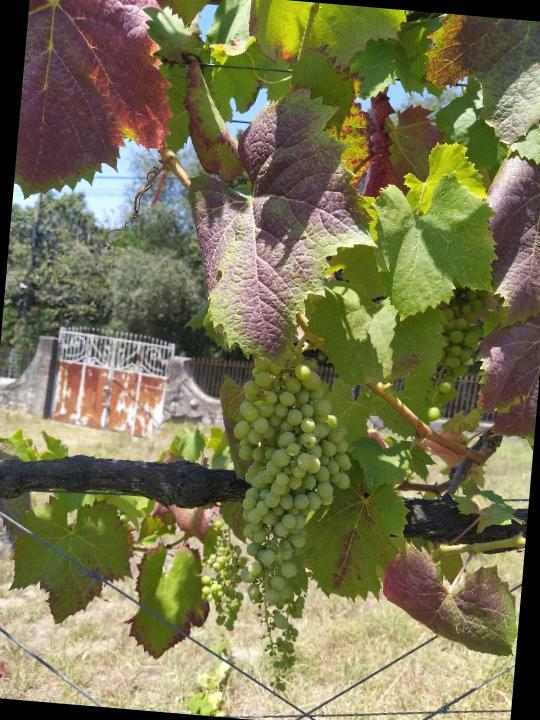grape: (213, 341, 365, 703), (189, 519, 260, 636)
